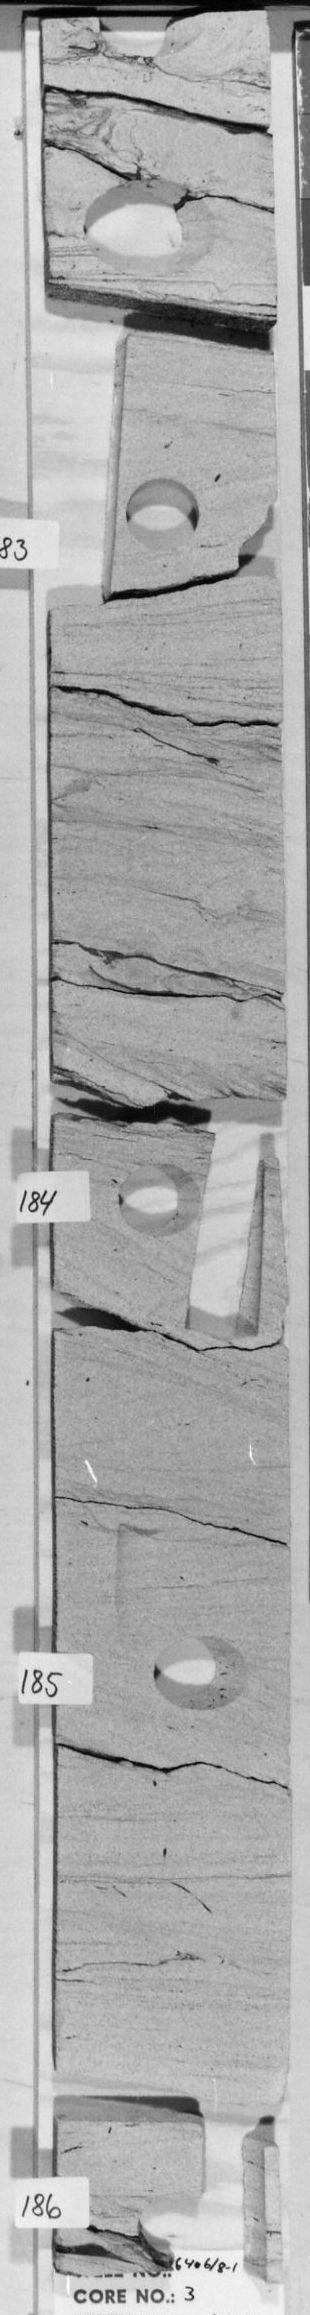hplug: (151, 1634, 255, 1714), (112, 1157, 199, 1239), (89, 13, 220, 63), (123, 475, 204, 552), (131, 2190, 201, 2265)
scal: (72, 179, 221, 281)
vplug: (52, 328, 128, 614), (185, 1131, 275, 1344), (195, 2123, 276, 2280), (100, 1513, 164, 1634)
